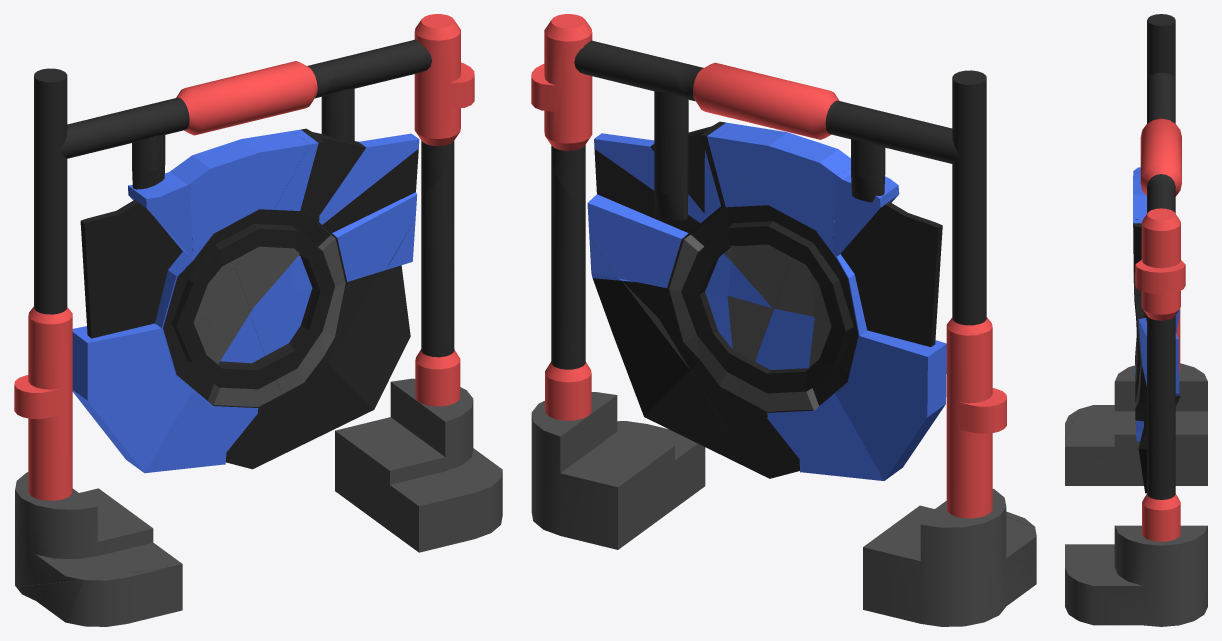
File: Door_cracked.fbx
The picture shows the model from 3 angles, left to right: view 1: azimuth 30°, elevation 25°; view 2: azimuth 150°, elevation 25°; view 3: azimuth 270°, elevation 25°; orthographic projection. The views are drawn at different scales.
Visible parts, largest first — view 1: Shield.007_cell.002, Shield.007_cell.005, Shield.007_cell.014, Shield.007_cell.009, Shield.007_cell.003, Shield.007_cell.006, Shield.007_cell, Shield.007_cell.007, Shield.007_cell.010, Shield.007_cell.015, Shield.007_cell.011, Shield.007_cell.013 (+4 smaller); view 2: Shield.007_cell.002, Shield.007_cell.005, Shield.007_cell.014, Shield.007_cell.009, Shield.007_cell.003, Shield.007_cell.006, Shield.007_cell, Shield.007_cell.010, Shield.007_cell.007, Shield.007_cell.015, Shield.007_cell.012, Shield.007_cell.013 (+4 smaller); view 3: Shield.007_cell.014, Shield.007_cell.009, Shield.007_cell.015, Shield.007_cell.013, Shield.007_cell.011, Shield.007_cell.005, Shield.007_cell.004, Shield.007_cell.007, Shield.007_cell.001, Shield.007_cell.012, Shield.007_cell.006, Shield.007_cell.003 (+1 smaller).
Boxes of the visible parts, left/top/right/bottom form: Shield.007_cell.002: left=72, top=268, right=290, bottom=473; Shield.007_cell.005: left=235, top=128, right=419, bottom=426; Shield.007_cell.014: left=335, top=378, right=502, bottom=552; Shield.007_cell.009: left=15, top=472, right=182, bottom=586; Shield.007_cell.003: left=176, top=131, right=309, bottom=277; Shield.007_cell.006: left=283, top=219, right=415, bottom=453; Shield.007_cell: left=80, top=167, right=192, bottom=303; Shield.007_cell.007: left=28, top=68, right=71, bottom=326; Shield.007_cell.010: left=14, top=312, right=72, bottom=500; Shield.007_cell.015: left=415, top=149, right=460, bottom=406; Shield.007_cell.011: left=173, top=61, right=334, bottom=135; Shield.007_cell.013: left=414, top=14, right=474, bottom=189; Shield.007_cell.002: left=728, top=264, right=946, bottom=480; Shield.007_cell.005: left=587, top=121, right=789, bottom=433; Shield.007_cell.014: left=531, top=392, right=705, bottom=549; Shield.007_cell.009: left=863, top=489, right=1036, bottom=626; Shield.007_cell.003: left=717, top=124, right=850, bottom=272; Shield.007_cell.006: left=589, top=235, right=734, bottom=461; Shield.007_cell: left=833, top=168, right=942, bottom=310; Shield.007_cell.010: left=946, top=321, right=1006, bottom=518; Shield.007_cell.007: left=950, top=70, right=992, bottom=333; Shield.007_cell.015: left=545, top=158, right=591, bottom=420; Shield.007_cell.012: left=574, top=40, right=693, bottom=220; Shield.007_cell.013: left=531, top=14, right=592, bottom=197; Shield.007_cell.014: left=1065, top=525, right=1207, bottom=626; Shield.007_cell.009: left=1065, top=363, right=1207, bottom=485; Shield.007_cell.015: left=1142, top=326, right=1180, bottom=541; Shield.007_cell.013: left=1135, top=208, right=1185, bottom=339; Shield.007_cell.011: left=1140, top=118, right=1181, bottom=196; Shield.007_cell.005: left=1133, top=219, right=1178, bottom=425; Shield.007_cell.004: left=1065, top=409, right=1143, bottom=485; Shield.007_cell.007: left=1147, top=14, right=1175, bottom=79; Shield.007_cell.001: left=1147, top=72, right=1175, bottom=123; Shield.007_cell.012: left=1147, top=183, right=1175, bottom=213; Shield.007_cell.006: left=1138, top=363, right=1180, bottom=493; Shield.007_cell.003: left=1133, top=178, right=1146, bottom=219.
Bounding box in the file's own units: 952 × 1029 × 307.
